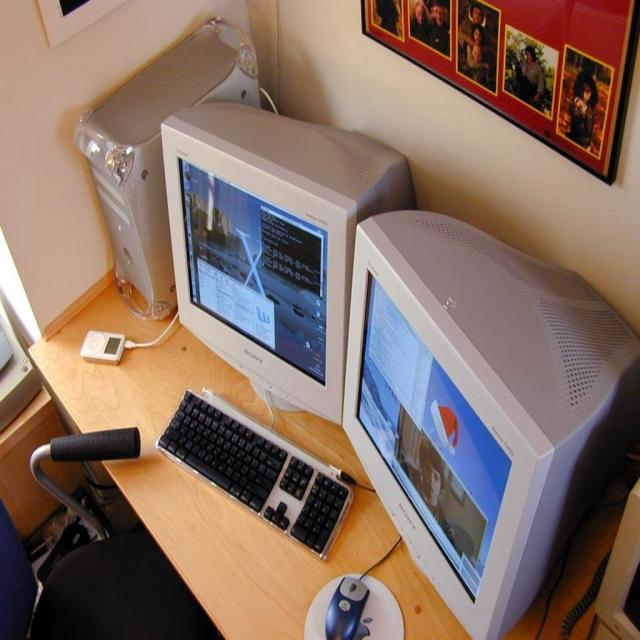chair: (0, 493, 215, 640)
desk: (27, 110, 639, 639)
keyboard: (155, 386, 353, 563)
mouse: (324, 574, 370, 640)
tv: (341, 206, 638, 638), (162, 99, 416, 429)
